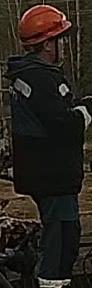gloves: (79, 93, 92, 124)
helmet: (17, 4, 72, 45)
vest: (4, 54, 85, 196)
